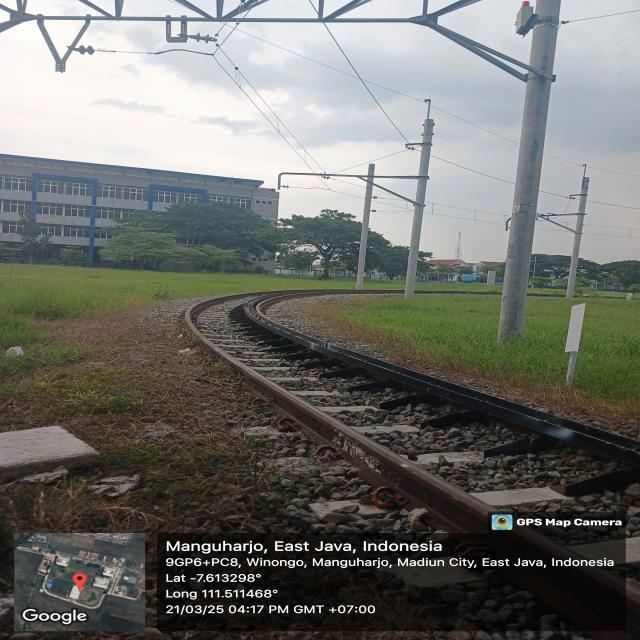rail-detection: (244, 293, 640, 465), (215, 350, 499, 533), (510, 569, 625, 629), (508, 529, 580, 560)
